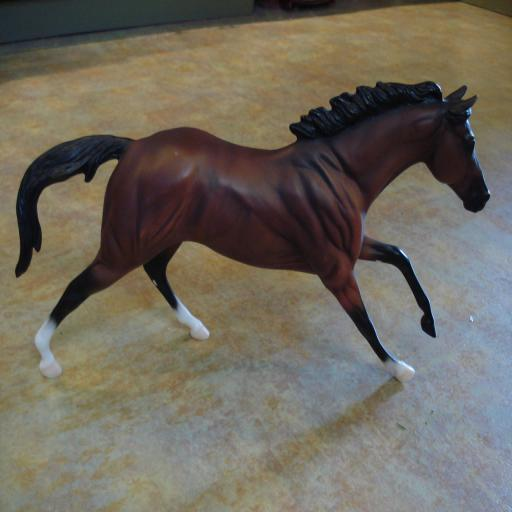horse: (15, 82, 490, 385)
